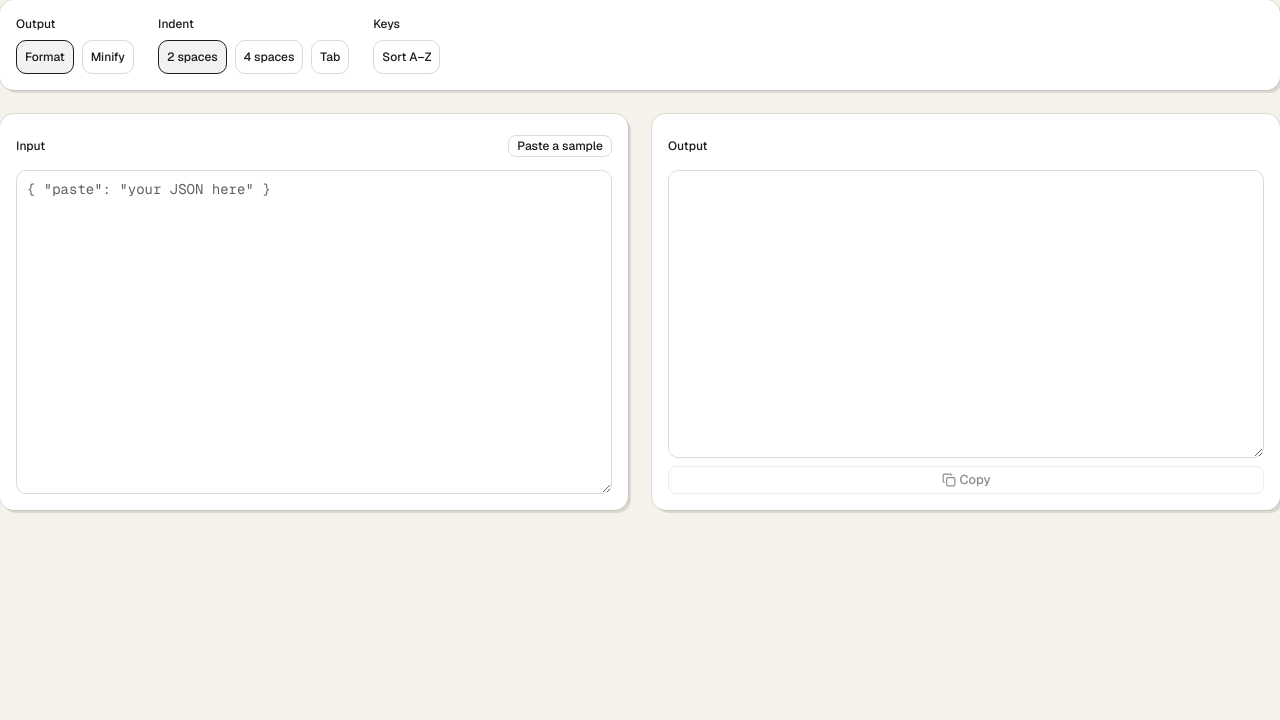
Test: JsonFormatterTool › offers a sample only while the input is empty
This screenshot has width=1280, height=720.
Step 1. Click the button "Paste a sample" → (560, 146), box [508,135,612,157]
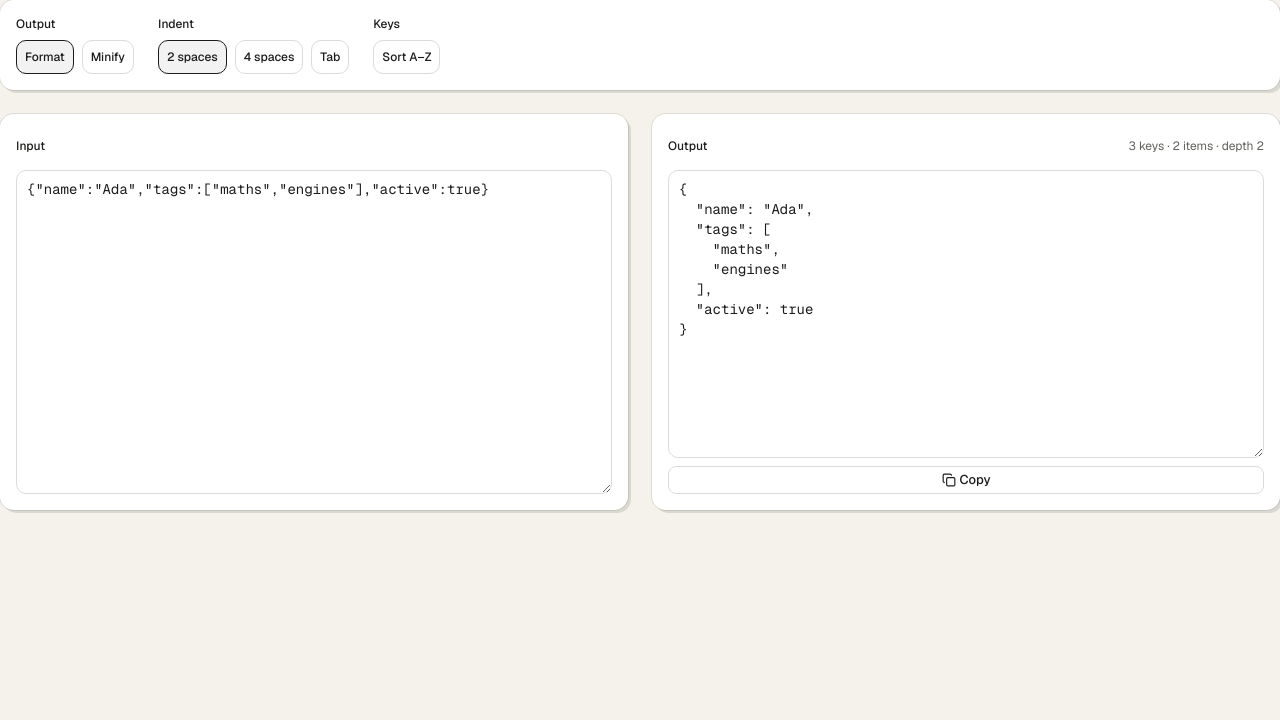
Result: the button "Paste a sample" is gone
